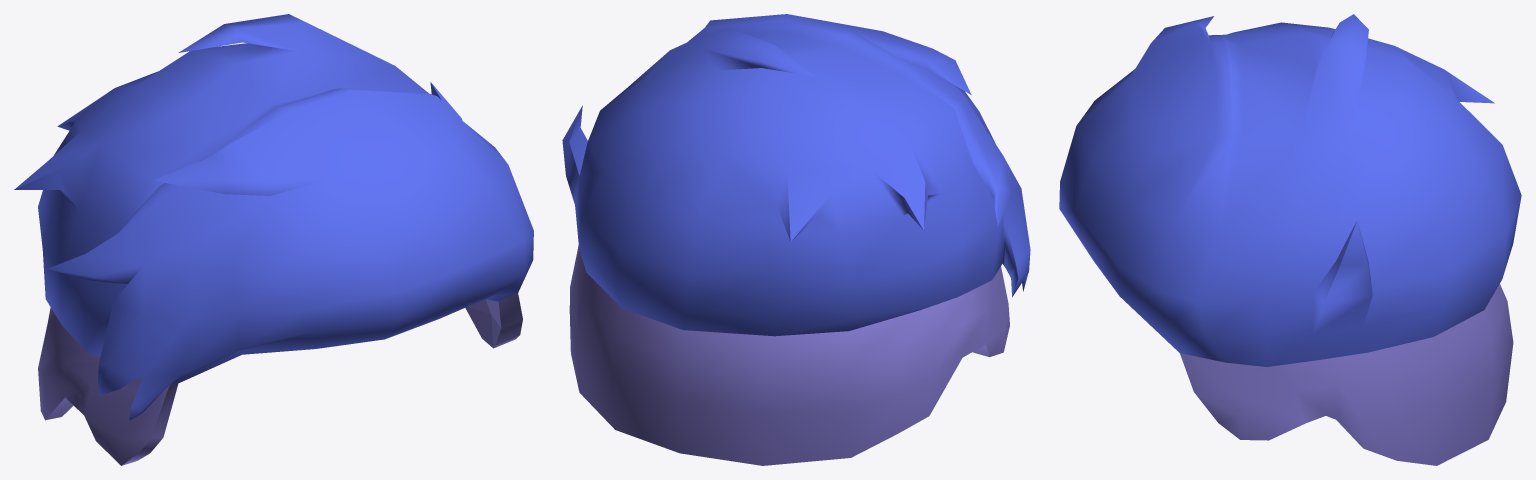
The model's file is Hair_12_03.fbx.
3 renders of one model, left to right at view 1: azimuth 30°, elevation 25°; view 2: azimuth 150°, elevation 25°; view 3: azimuth 270°, elevation 25°, orthographic. The views are drawn at different scales.
Parts seen in each view (by area): view 1: Hair_12_03; view 2: Hair_12_03; view 3: Hair_12_03.
Boxes of the visible parts, x1,y1,x2,y2 form: Hair_12_03: (14, 14, 533, 465); Hair_12_03: (562, 14, 1030, 465); Hair_12_03: (1059, 14, 1521, 465).
Size of the model in its own units: 40.83 by 34.03 by 38.32.
